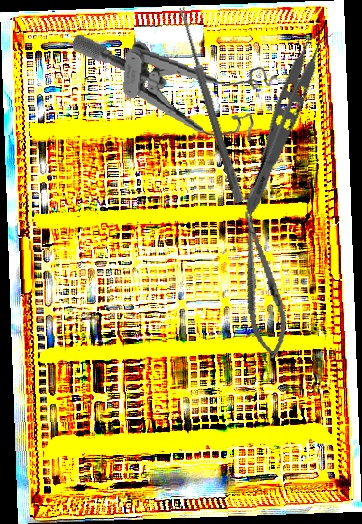Needle Holder: (230, 208, 294, 361)
Speculum: (64, 34, 280, 144)
Surgical Spoon: (176, 6, 245, 204)
Tissue Forceps: (239, 23, 335, 222)
